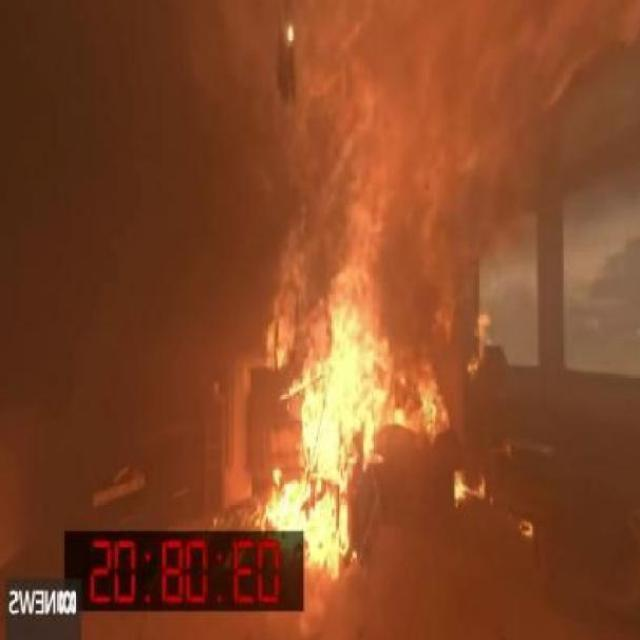smoke: (252, 258, 438, 575), (444, 306, 492, 404), (438, 446, 493, 518)
